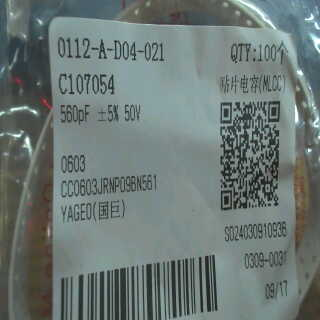560pF: (58, 98, 94, 130)
